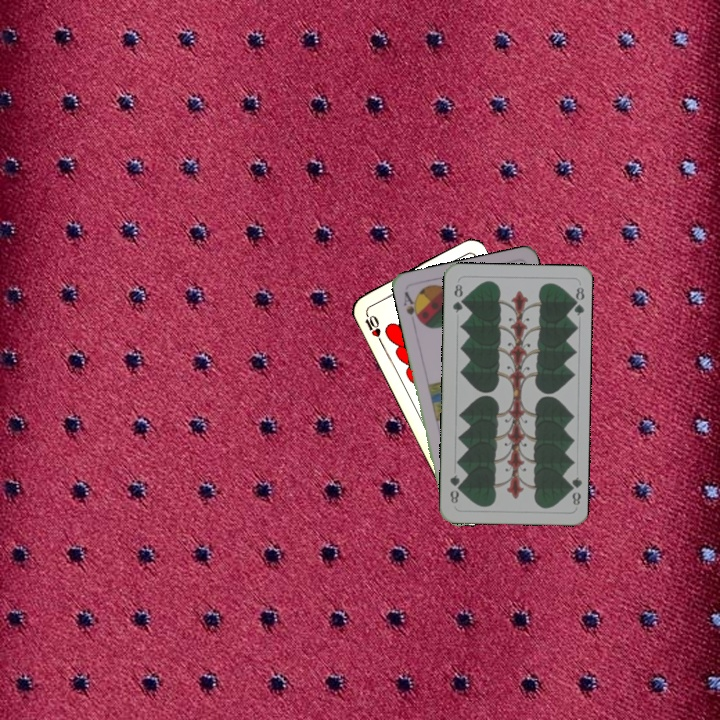G8: (564, 473, 584, 507), (448, 280, 466, 315)
H10: (361, 307, 385, 346)
SA: (399, 288, 423, 325)
